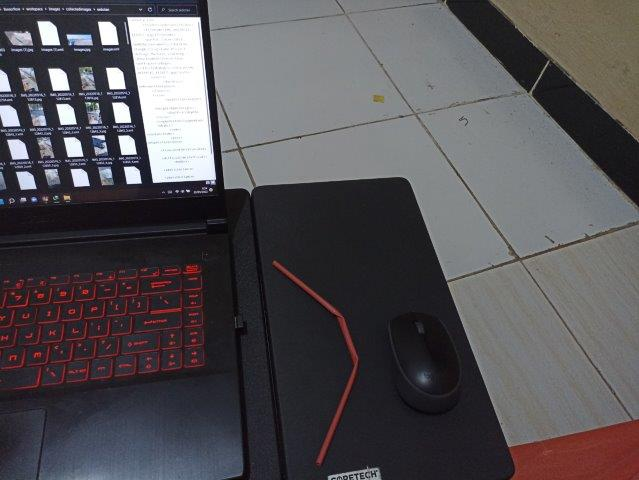sedotan: (271, 260, 358, 462)
